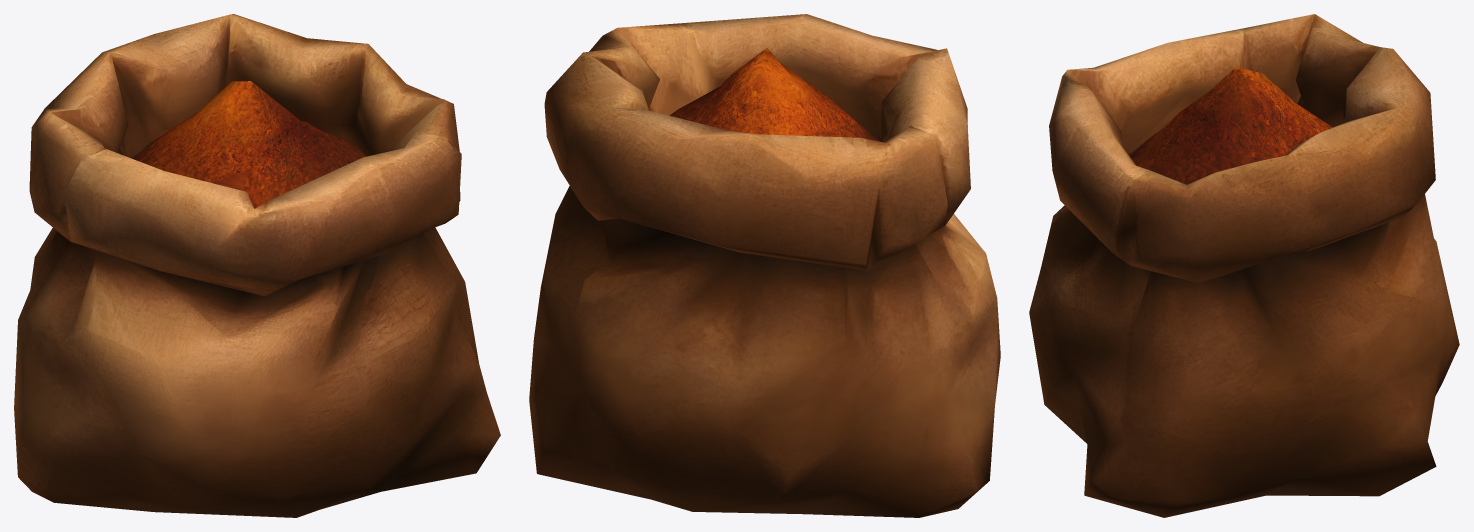
File: especias-v1.glb
The picture shows the model from 3 angles, left to right: view 1: azimuth 30°, elevation 25°; view 2: azimuth 150°, elevation 25°; view 3: azimuth 270°, elevation 25°; orthographic projection. The views are drawn at different scales.
Parts seen in each view (by area): view 1: tripo_node_e817f048-f5bd-4169-9a54-a7b4b347147f; view 2: tripo_node_e817f048-f5bd-4169-9a54-a7b4b347147f; view 3: tripo_node_e817f048-f5bd-4169-9a54-a7b4b347147f.
Part boxes in pixels (x1=…): tripo_node_e817f048-f5bd-4169-9a54-a7b4b347147f: x1=14, y1=14, x2=500, y2=517; tripo_node_e817f048-f5bd-4169-9a54-a7b4b347147f: x1=529, y1=14, x2=1000, y2=517; tripo_node_e817f048-f5bd-4169-9a54-a7b4b347147f: x1=1029, y1=14, x2=1459, y2=517.
Bounding box in the file's own units: 0.9842 × 0.8756 × 0.9195.
Materials: 1 (1 with a texture image).
